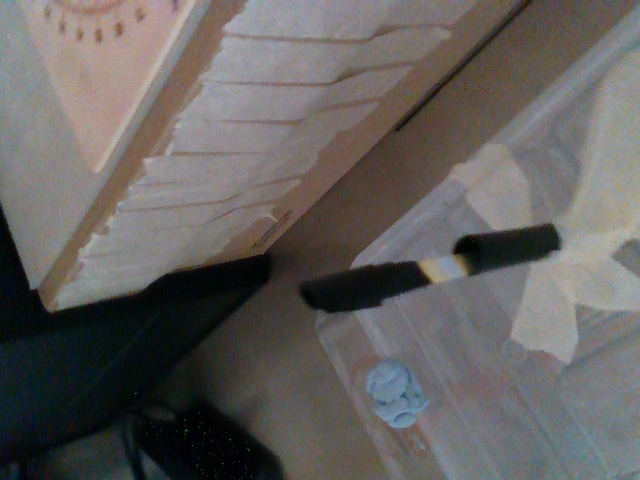test_strip: (298, 253, 466, 314)
